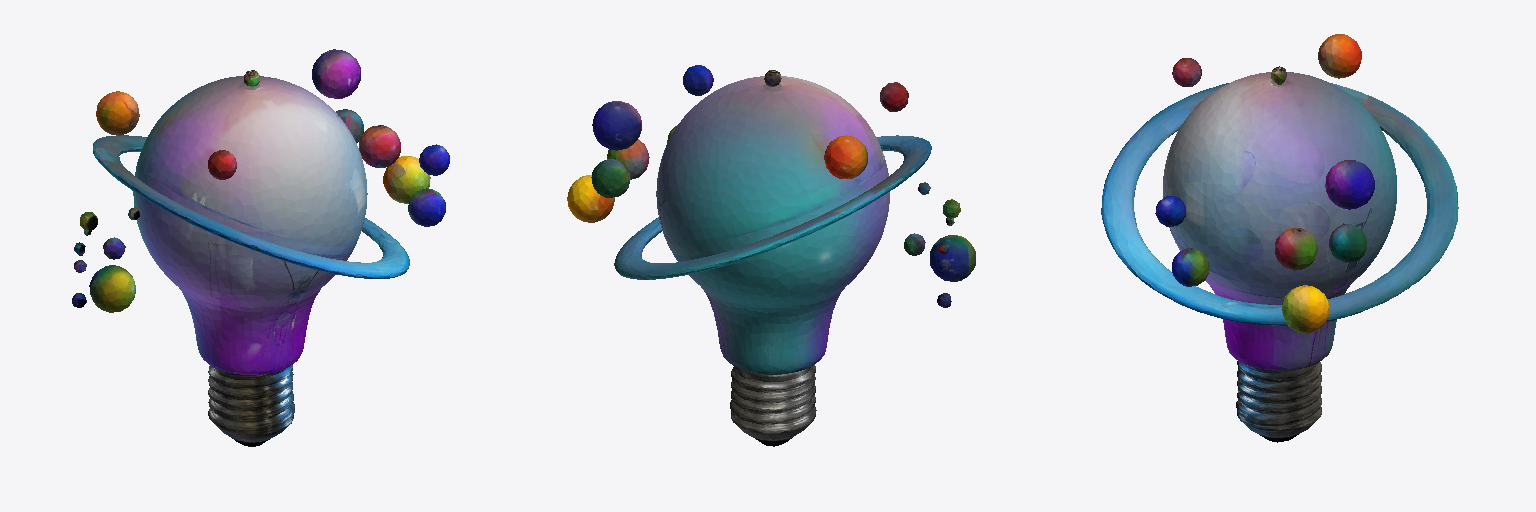
3 renders of one model, left to right at view 1: azimuth 30°, elevation 25°; view 2: azimuth 150°, elevation 25°; view 3: azimuth 270°, elevation 25°, orthographic.
Visible parts, largest first — view 1: symbolic_lightbulb_wi_[number redacted]_texture; view 2: symbolic_lightbulb_wi_[number redacted]_texture; view 3: symbolic_lightbulb_wi_[number redacted]_texture.
Part boxes in pixels (bbox=[...]): symbolic_lightbulb_wi_[number redacted]_texture: bbox=[72, 49, 449, 446]; symbolic_lightbulb_wi_[number redacted]_texture: bbox=[567, 65, 975, 446]; symbolic_lightbulb_wi_[number redacted]_texture: bbox=[1101, 34, 1458, 442].
Bounding box in the file's own units: 2 × 1.93 × 1.68.
Materials: 1 (1 with a texture image).